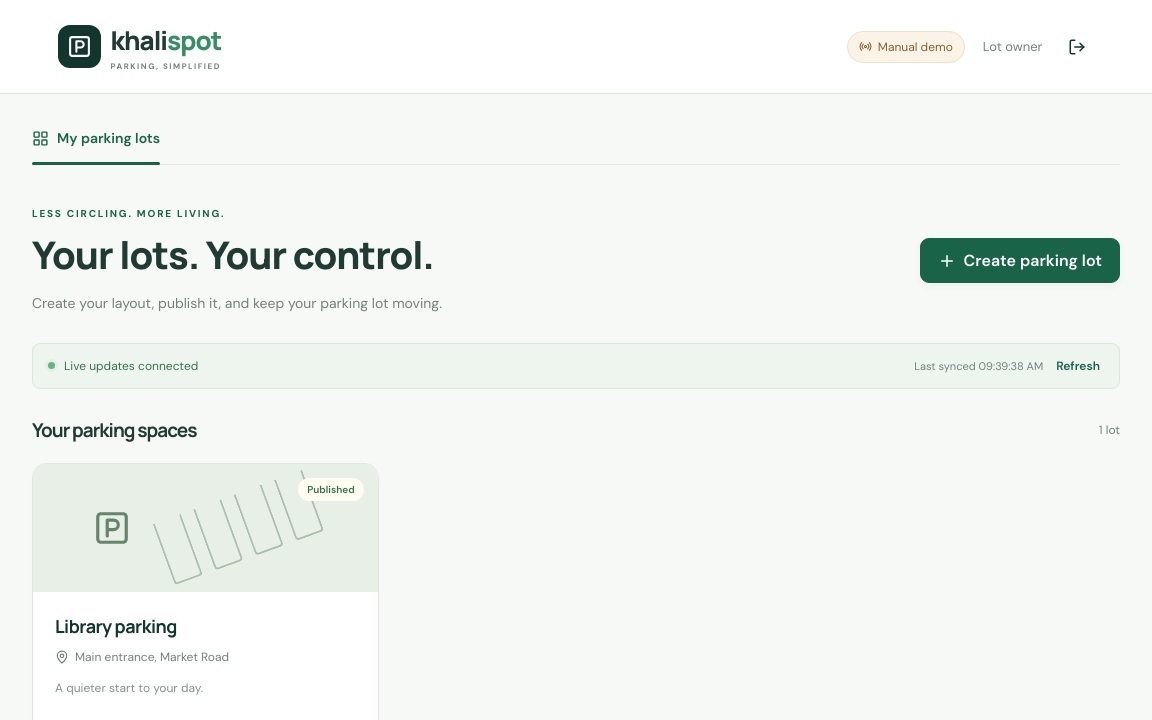
Test case: owner and visitor experiences › clears private owner data on logout
The width and height of the screenshot is (1152, 720).
Expected: the heading "Library parking" is shown, [55,614,177,638]
Click the button named "Sign out": x=1077, y=46 [1060,30,1094,64]
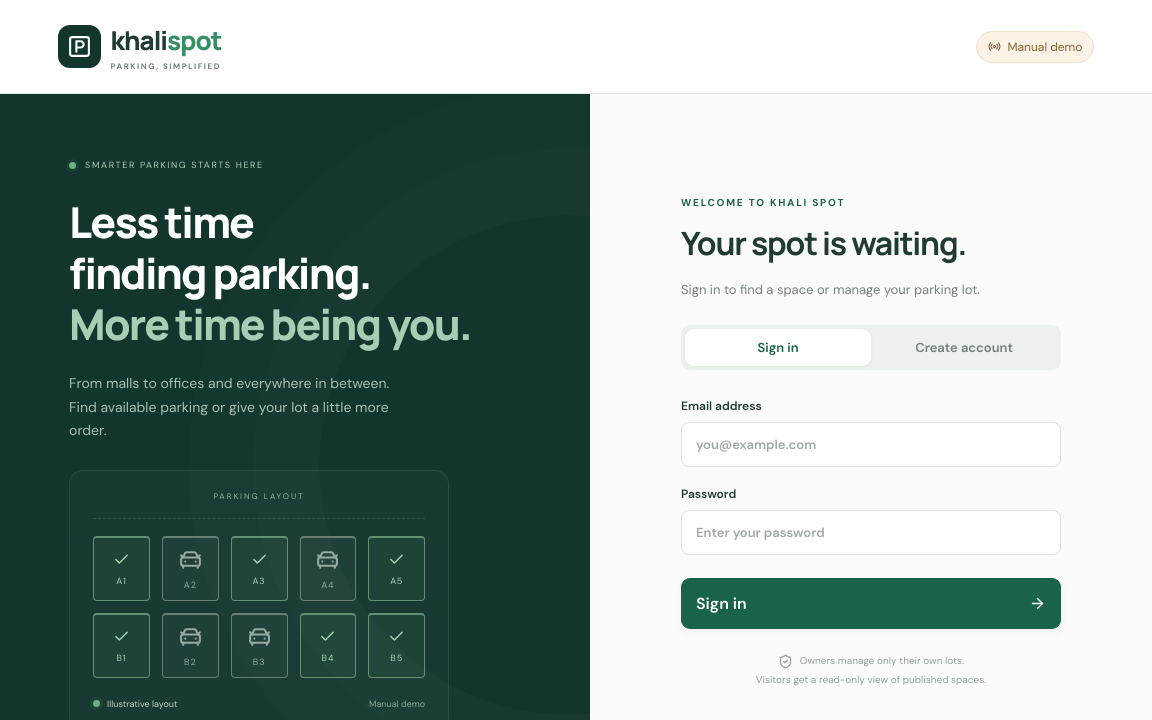
Expected: the form named "Authentication" is shown, [681,398,1061,629]
Expected: the button "Library parking" is gone
